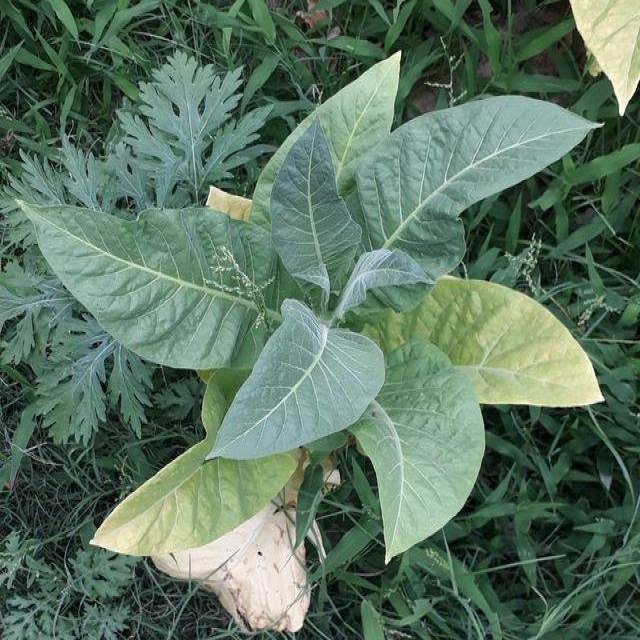crop: (42, 66, 600, 540), (577, 0, 639, 117)
